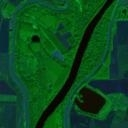alloviz: (73, 84, 107, 115), (30, 33, 41, 43)
